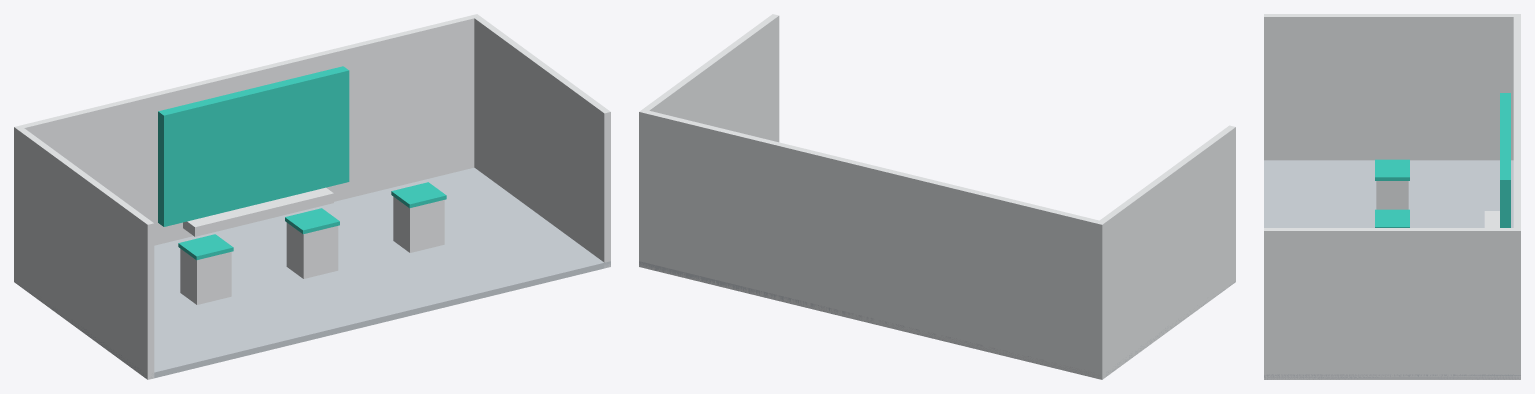
The picture shows the model from 3 angles, left to right: view 1: azimuth 30°, elevation 25°; view 2: azimuth 150°, elevation 25°; view 3: azimuth 270°, elevation 25°; orthographic projection. The views are drawn at different scales.
Visible parts, largest first — view 1: Exhibition Booth Concept; view 2: Exhibition Booth Concept; view 3: Exhibition Booth Concept.
Boxes of the visible parts, x1,y1,x2,y2 form: Exhibition Booth Concept: (14, 14, 610, 379); Exhibition Booth Concept: (639, 14, 1235, 379); Exhibition Booth Concept: (1264, 14, 1520, 379).
Bounding box in the file's own units: 10 × 3.2 × 5.
